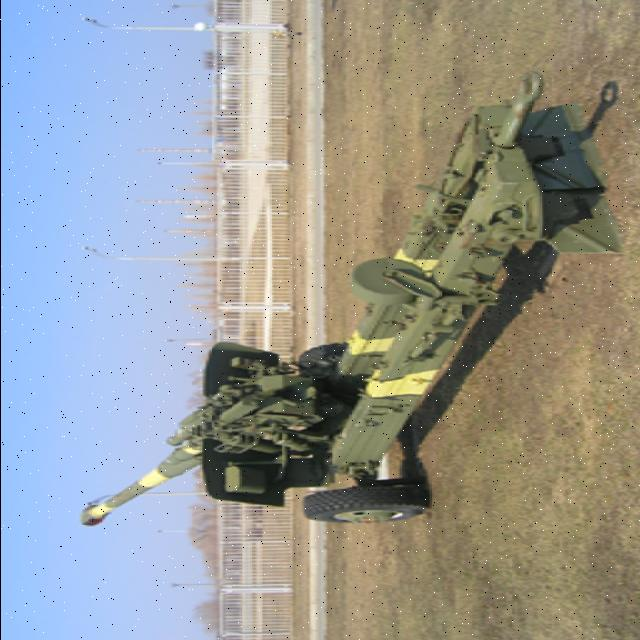ART: (74, 101, 624, 531)
